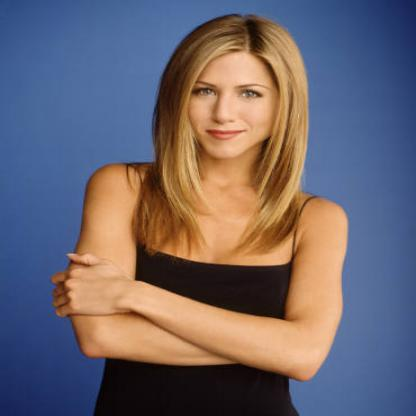face: (179, 31, 289, 161)
